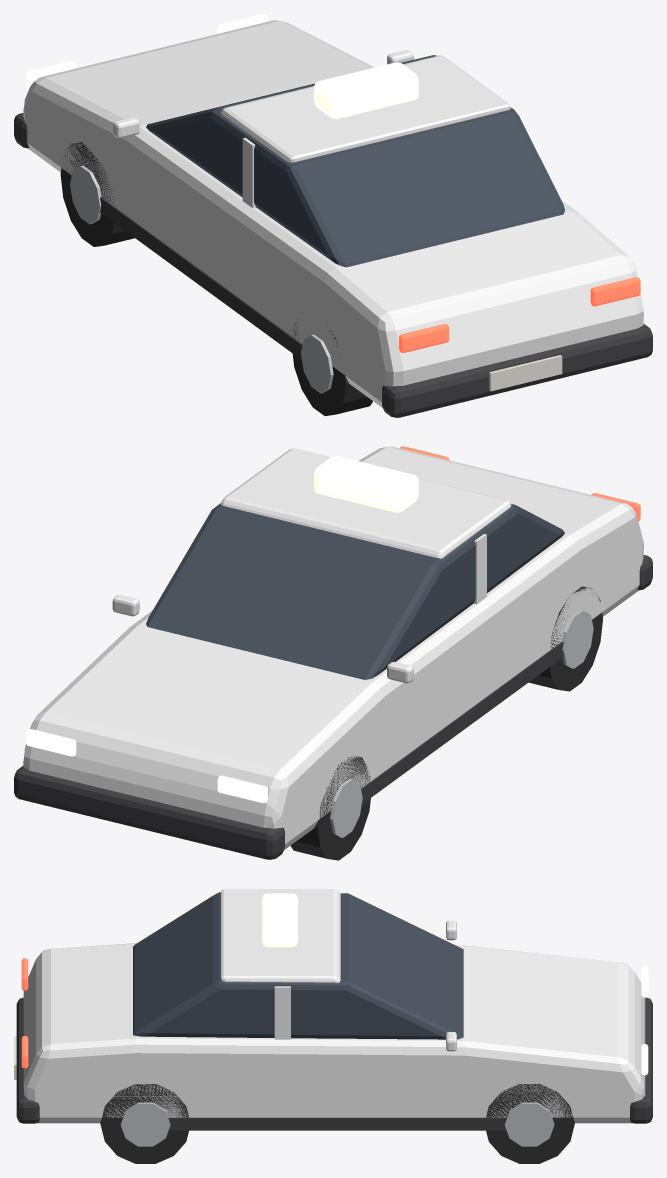
Rendered from car_taxi.glb.
3 views of the same model, one above another, from view 1: azimuth 30°, elevation 25°; view 2: azimuth 150°, elevation 25°; view 3: azimuth 270°, elevation 25° (orthographic). The views are drawn at different scales.
Visible parts, largest first — view 1: car; view 2: car; view 3: car.
Part boxes in pixels (bbox=[...]): car: bbox=[14, 14, 652, 417]; car: bbox=[14, 446, 652, 860]; car: bbox=[14, 889, 652, 1163].
Size of the model in its own units: 2.08 by 1.63 by 4.66.
